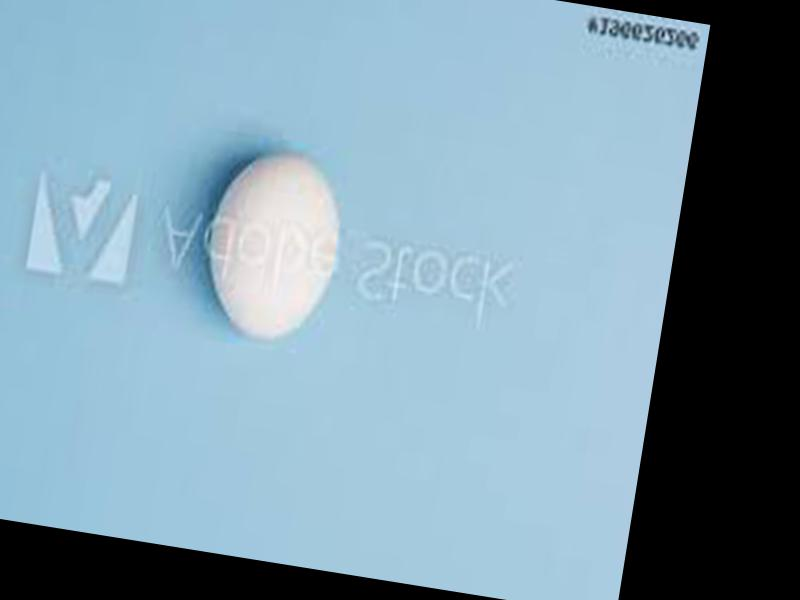Eggs: (197, 146, 349, 344)
